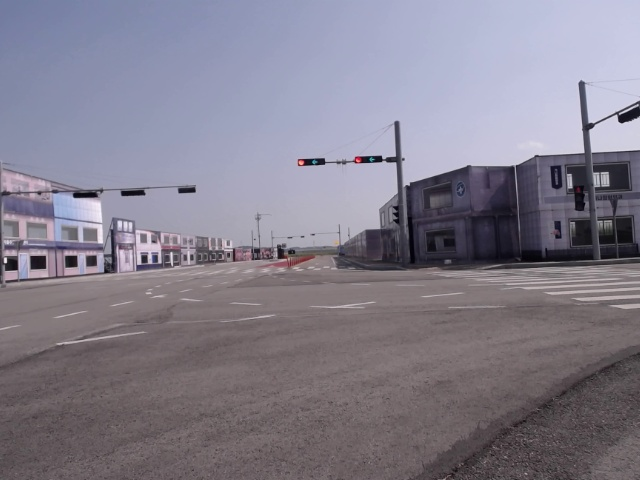left_green_4: (298, 159, 325, 166), (355, 157, 382, 164)
